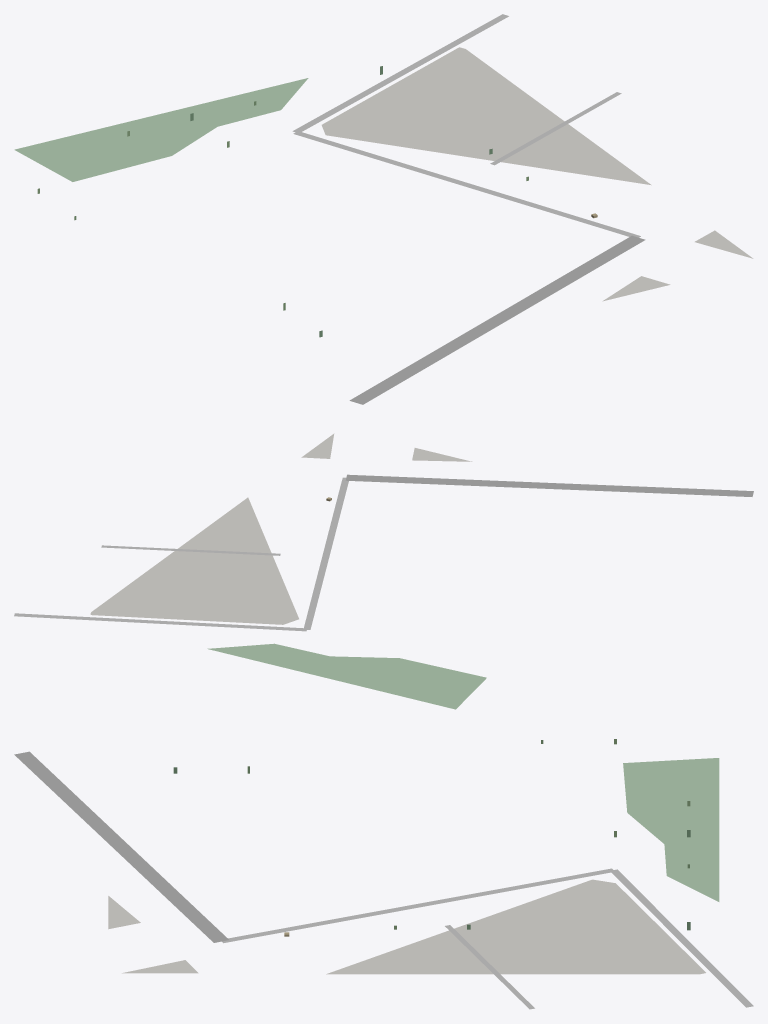
The picture shows the model from 3 angles, top to bottom: view 1: azimuth 30°, elevation 25°; view 2: azimuth 150°, elevation 25°; view 3: azimuth 270°, elevation 25°; orthographic projection. The views are drawn at different scales.
Size of the model in its own units: 514 by 8.71 by 605.
